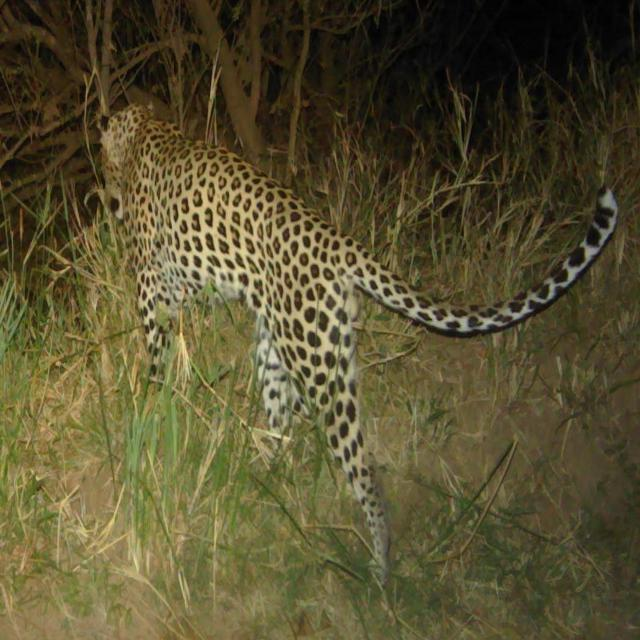Leopard: (87, 64, 618, 600)
